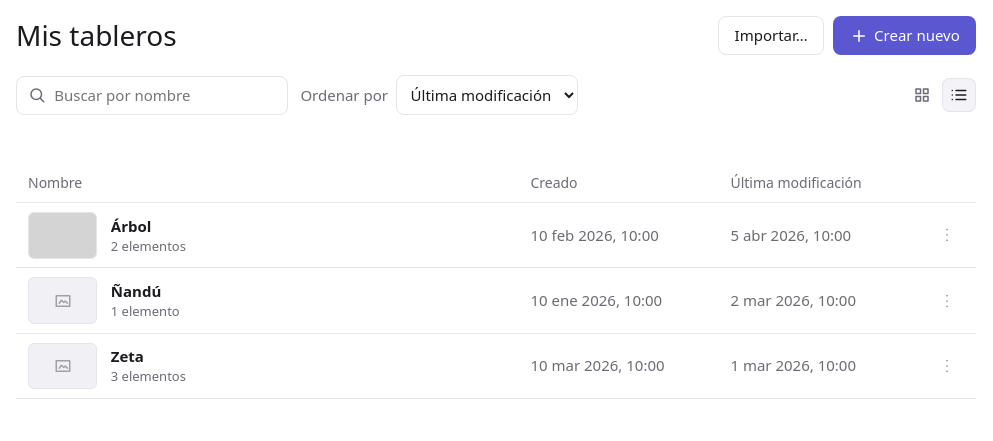
Test: rename › Escape cancels, and a server error is shown in the field
Expected: the heading "Mis tableros" is shown, [16,16,177,55]
Expected: the link "Ñandú" is shown, [111,281,161,301]
Double-click the link "Zeta".
double_click(127, 356)  # box [111,346,144,366]
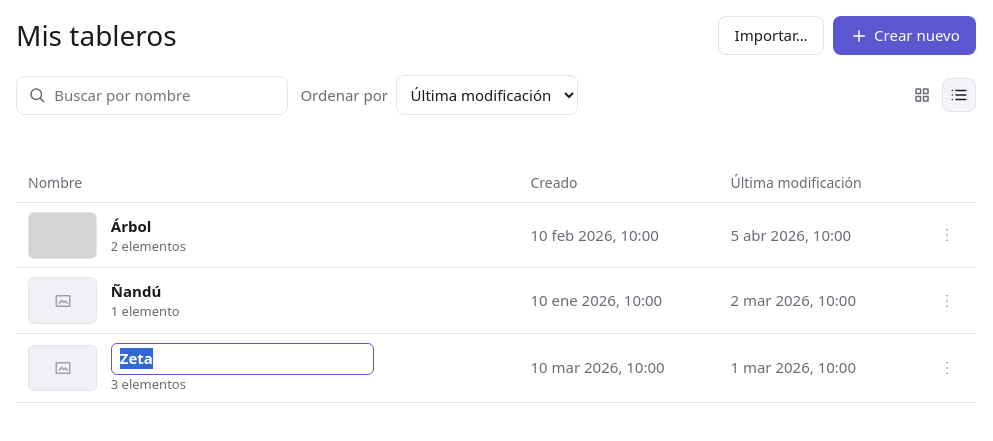
Press Escape in the field named "Título del tablero", box [111,342,374,375]
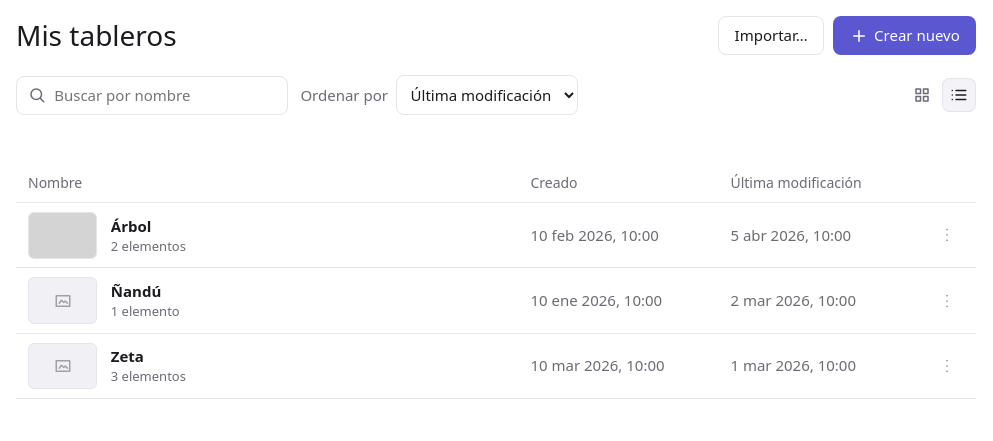
Double-click the link "Zeta".
double_click(127, 356)  # box [111,346,144,366]
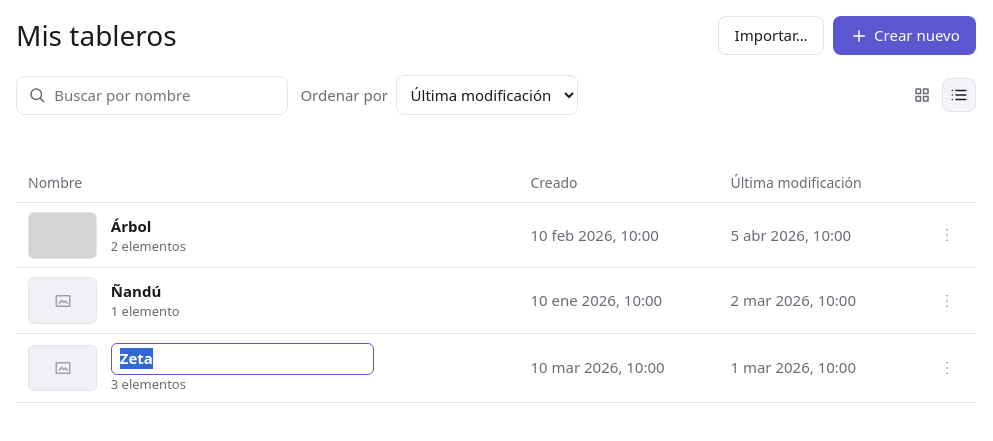
Replace the text in the field named "Título del tablero" with "Otro" at (242, 359), box [111,342,374,375]
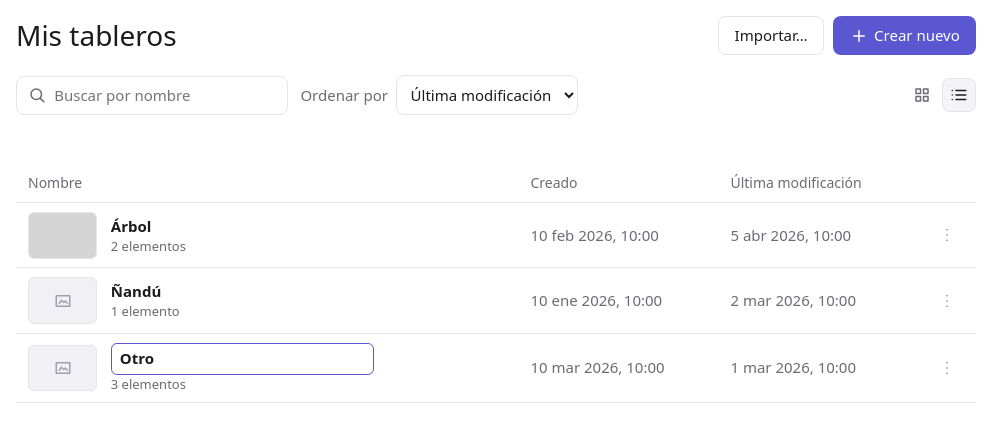
Press Enter in the field named "Título del tablero", box [111,342,374,375]
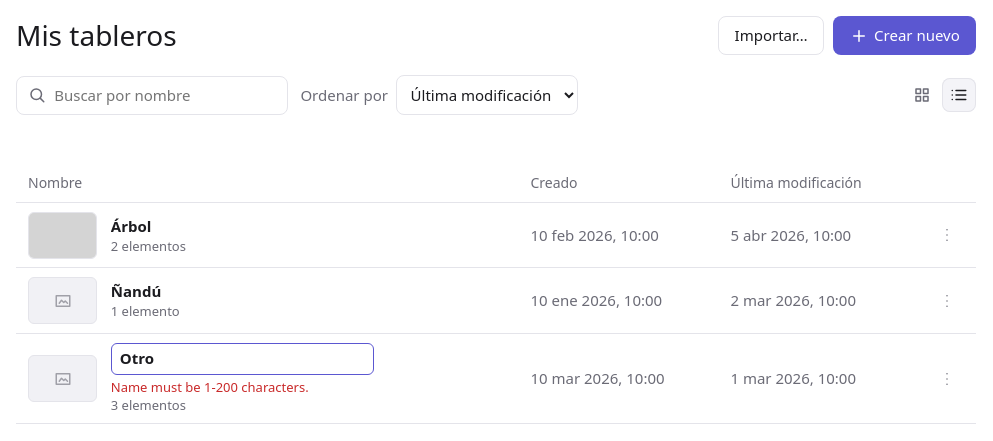
Expected: the message "Name must be 1-200 characters." is shown, [111,378,309,396]
